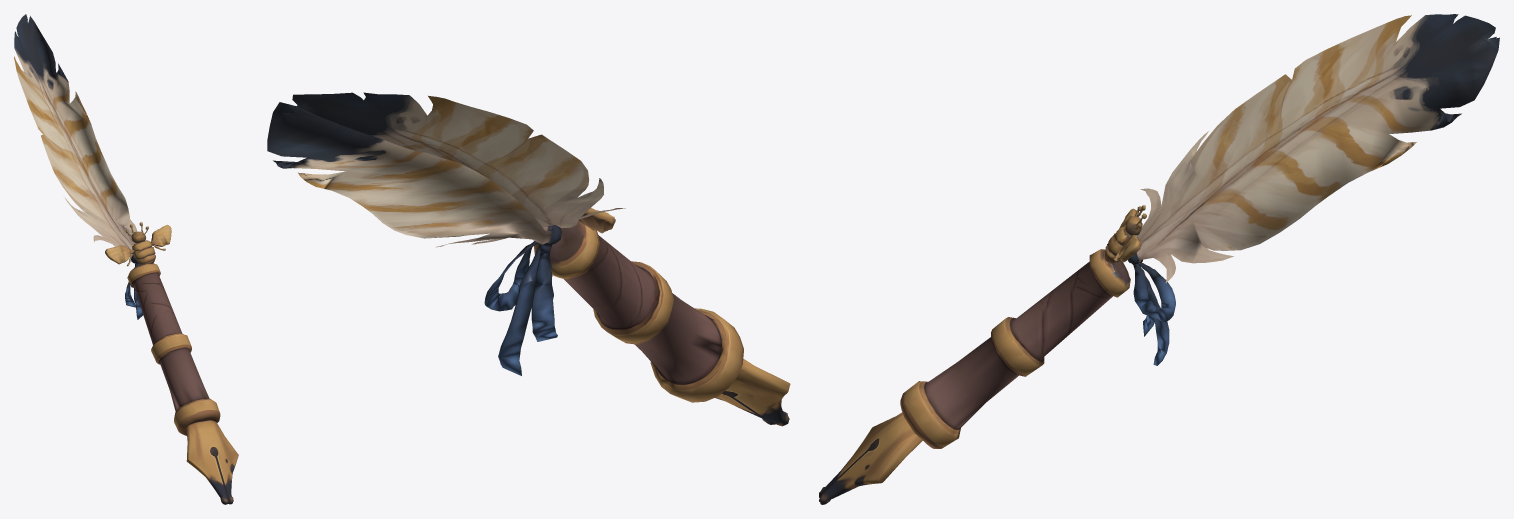
The model's file is scribe_quill_tripo.glb.
3 renders of one model, left to right at view 1: azimuth 30°, elevation 25°; view 2: azimuth 150°, elevation 25°; view 3: azimuth 270°, elevation 25°, orthographic. The views are drawn at different scales.
Parts seen in each view (by area): view 1: tripo_node_d51ee34c-fb6a-4489-8027-1e6b91134304; view 2: tripo_node_d51ee34c-fb6a-4489-8027-1e6b91134304; view 3: tripo_node_d51ee34c-fb6a-4489-8027-1e6b91134304.
Part boxes in pixels (box(x1,y1,x2,y2)): tripo_node_d51ee34c-fb6a-4489-8027-1e6b91134304: box(14, 14, 238, 504); tripo_node_d51ee34c-fb6a-4489-8027-1e6b91134304: box(267, 92, 790, 426); tripo_node_d51ee34c-fb6a-4489-8027-1e6b91134304: box(819, 14, 1499, 504).
Bounding box in the file's own units: 0.2168 × 0.791 × 0.998.
1 material, 1 textured.
